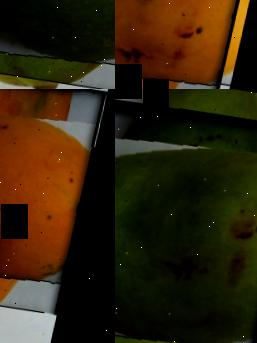Ripe: (0, 89, 107, 318), (115, 0, 257, 89)
Unripe: (115, 94, 257, 343), (0, 0, 115, 89)
